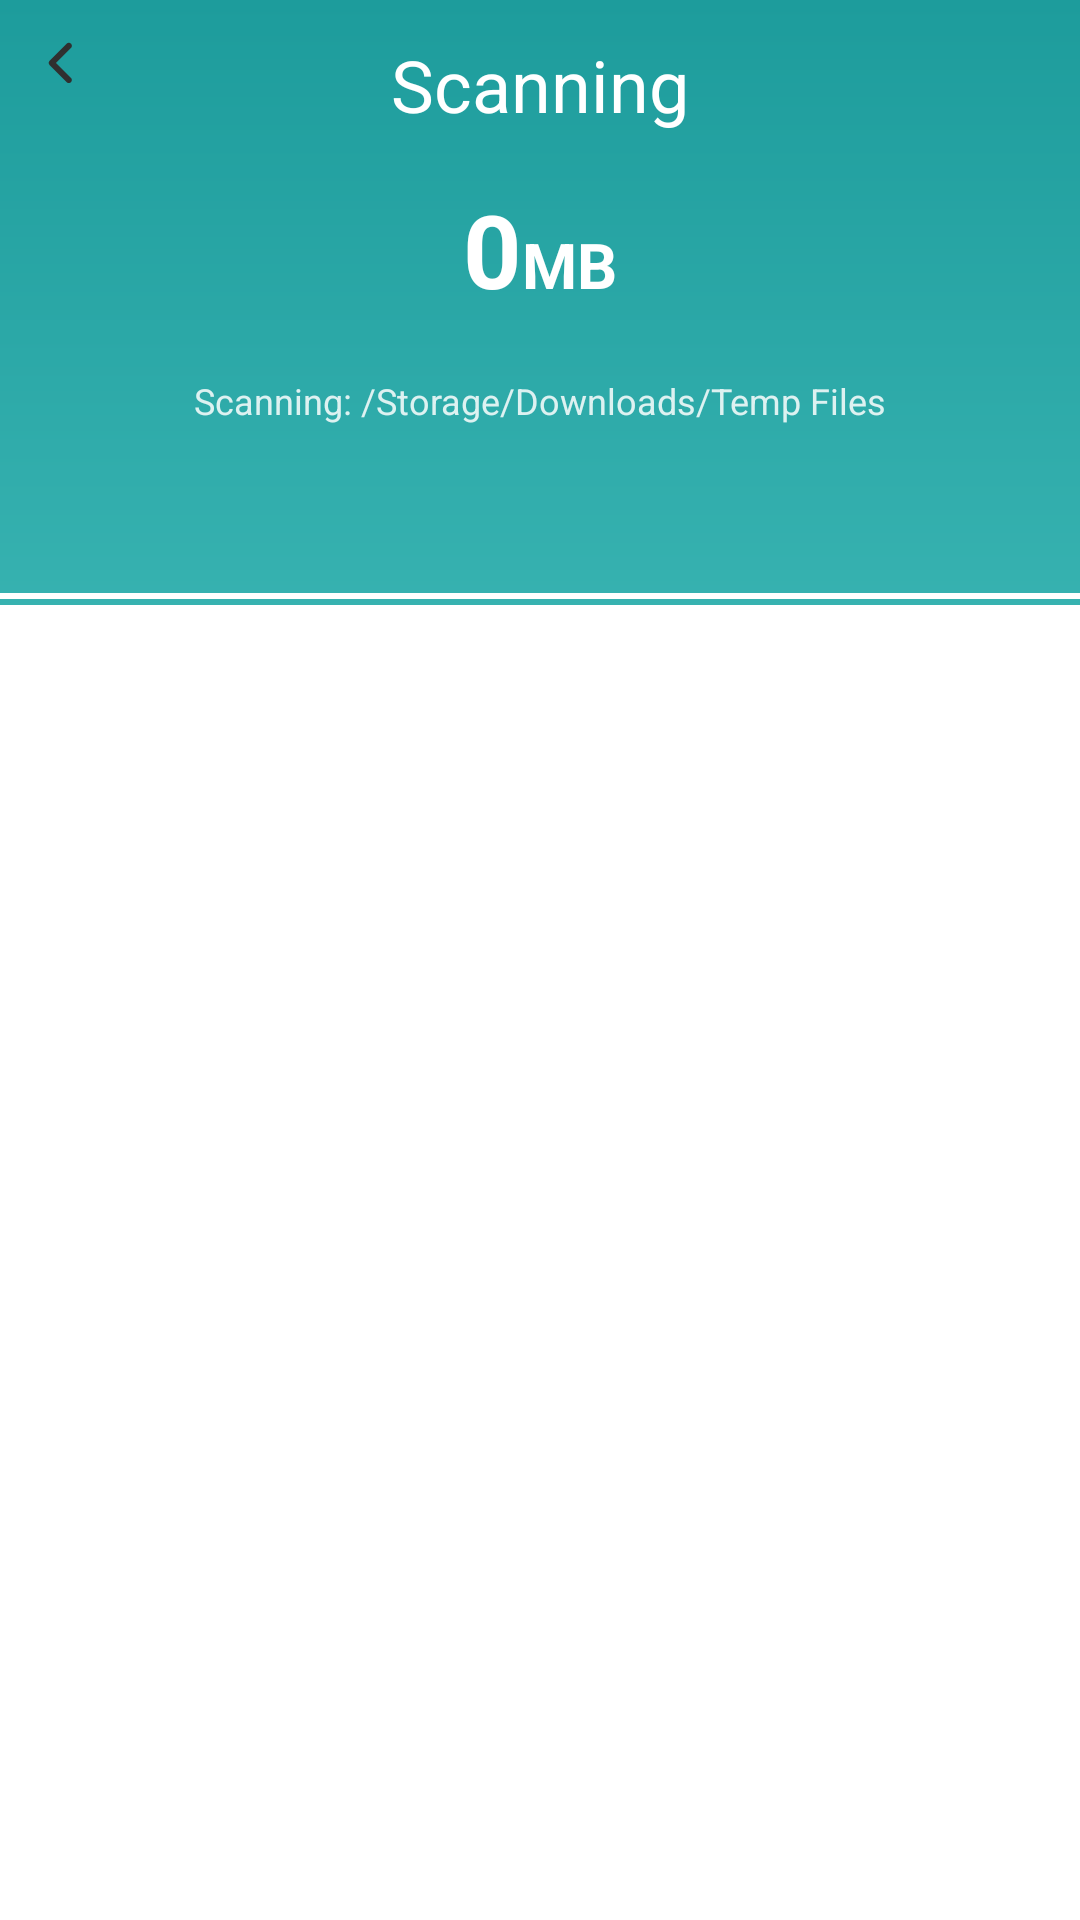

Icons on this 1080w x 1920h Android screen, each with the point to tap as point (x, y):
reture: point (60, 63)
